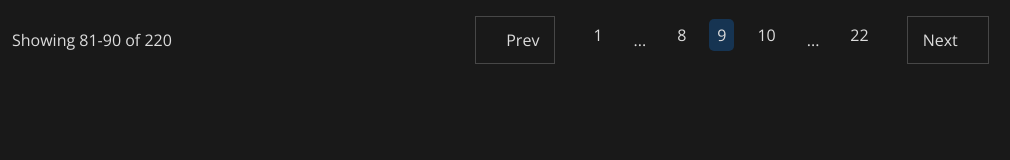
it: jumping to a page from an ellipsis › accepts only digits
The image size is (1010, 160).
Click the button named "Jump to page": (640, 40) [626, 24, 654, 56]
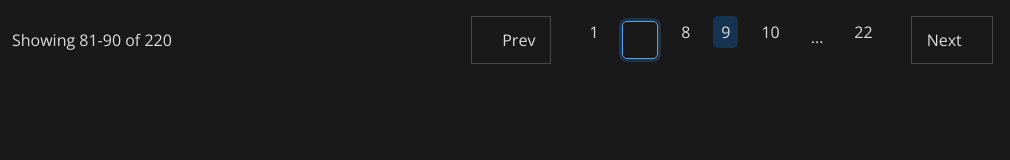
In the field named "Go to page (1-22)": (640, 40) [622, 21, 658, 59], type "1a-2"
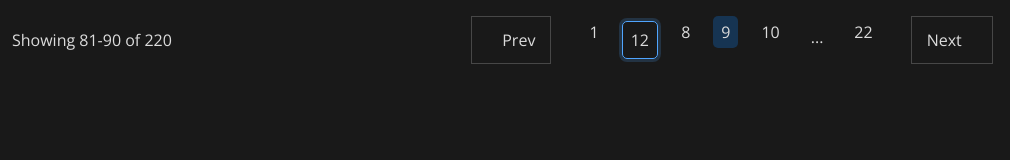
Now the field named "Go to page (1-22)" holds "12", box [622, 21, 658, 59]
